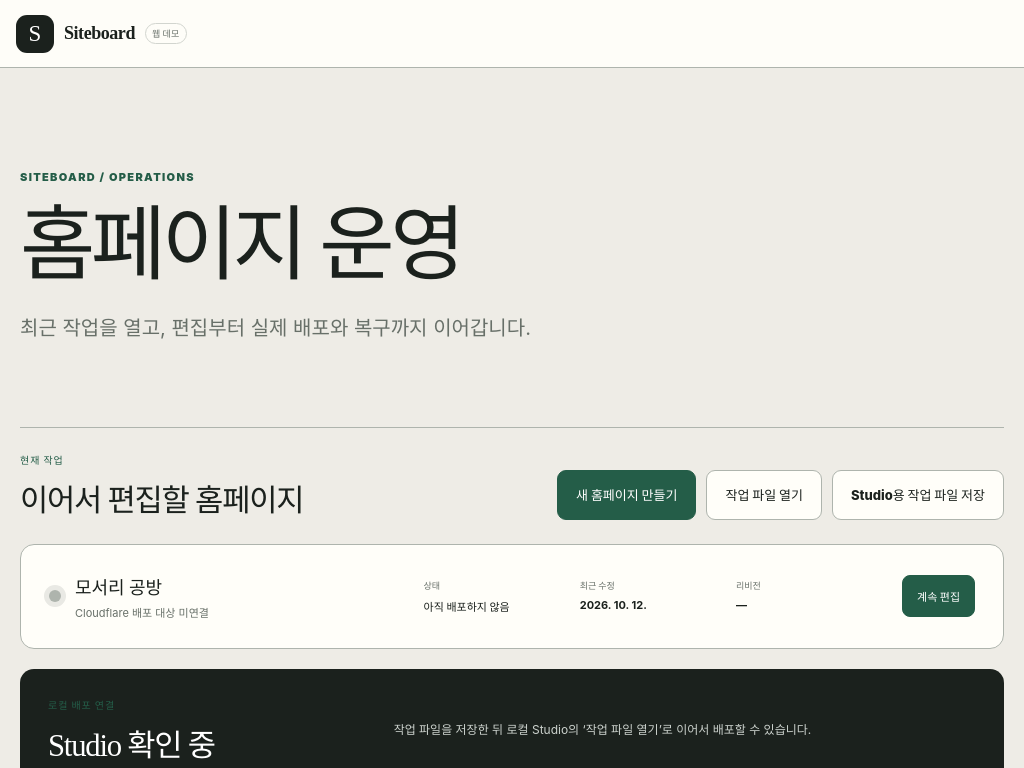
it: Siteboard 제작 흐름 › 공개 편집기의 작업 파일을 로컬 Studio로 넘길 수 있다
Click the button "Studio용 작업 파일 저장" at (918, 495), box [832,470,1004,520]
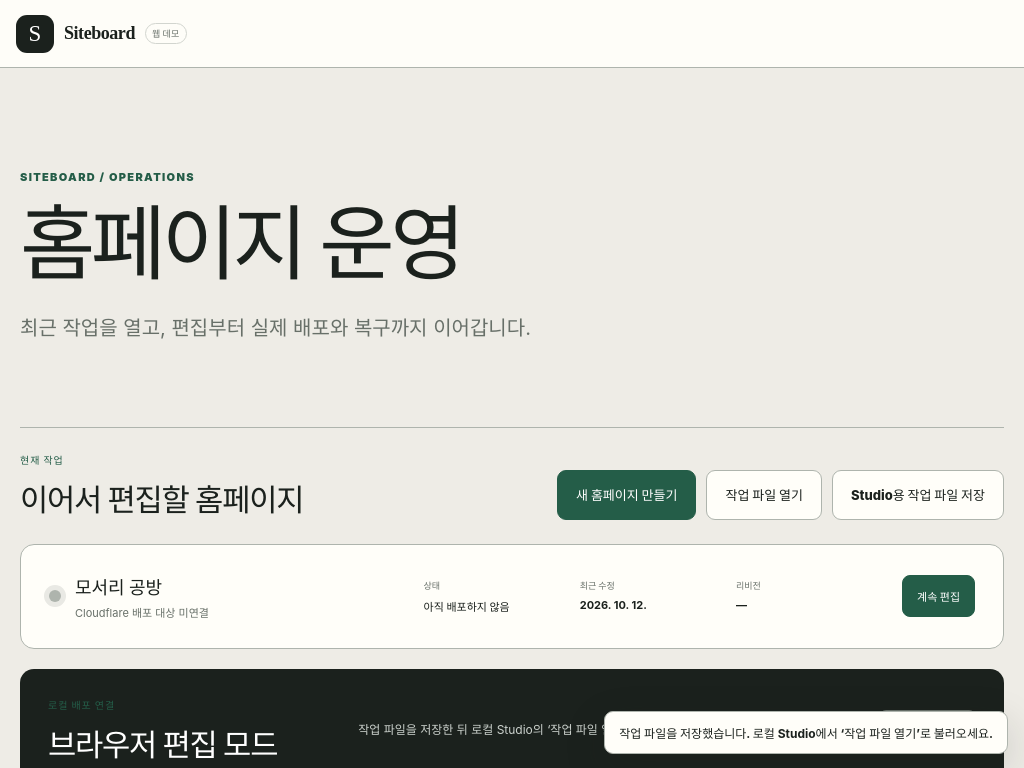
Expected: the text "작업 파일을 저장했습니다. 로컬 Studio에서 ‘작업 파일 열기’로 불러오세요." is shown, [604,711,1008,754]
